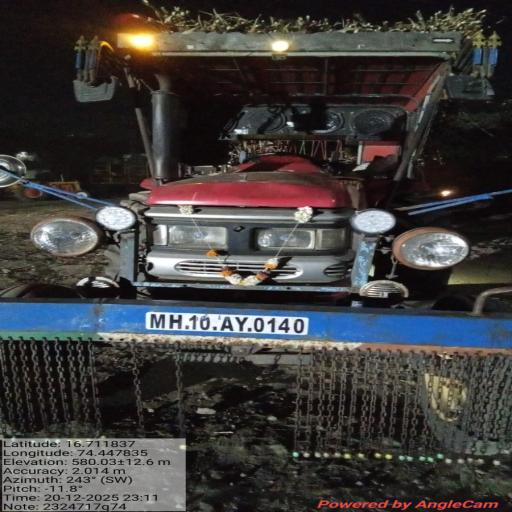number_plate: (146, 312, 308, 335)
